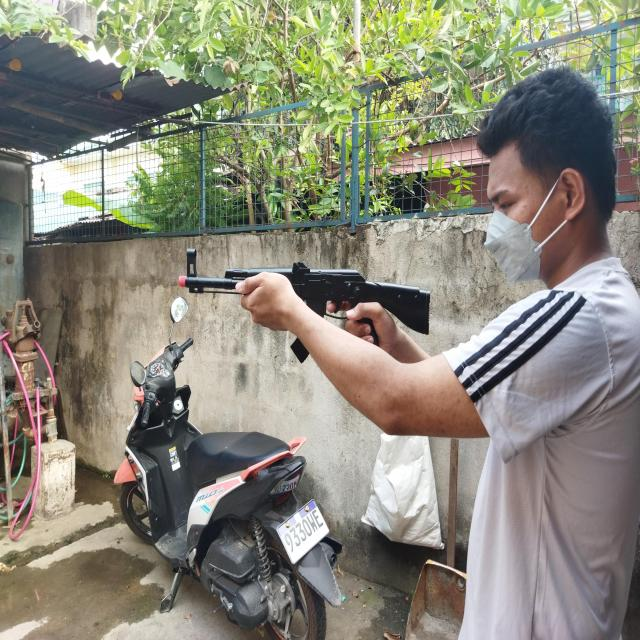rifle: (179, 248, 430, 365)
